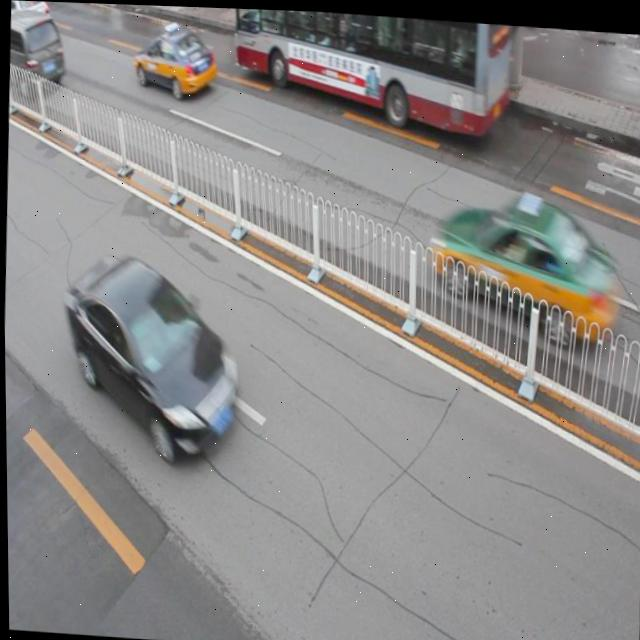car: (62, 249, 241, 456), (426, 181, 619, 339), (131, 23, 218, 97), (10, 0, 51, 33)
truck: (8, 8, 66, 95)
van: (230, 7, 511, 136)
